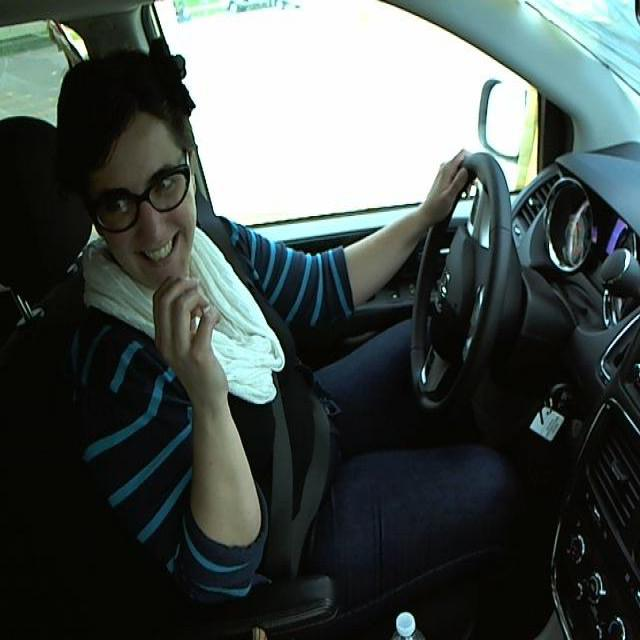seatbelt: (242, 336, 333, 575)
